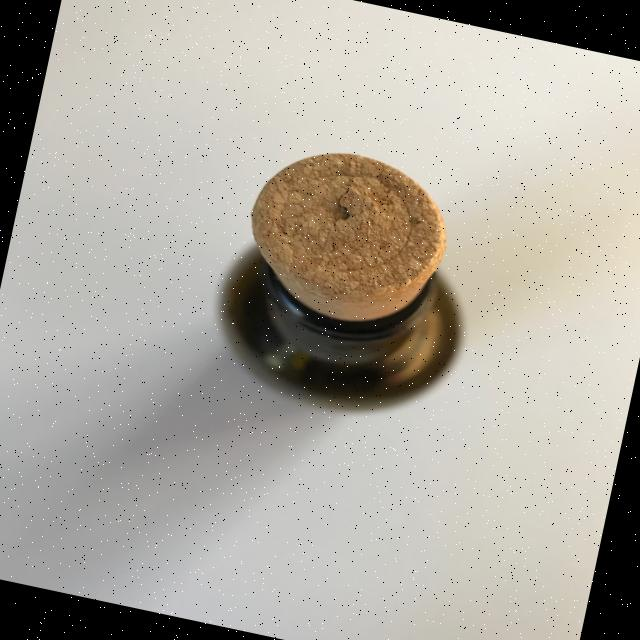glass: (202, 131, 494, 429)
